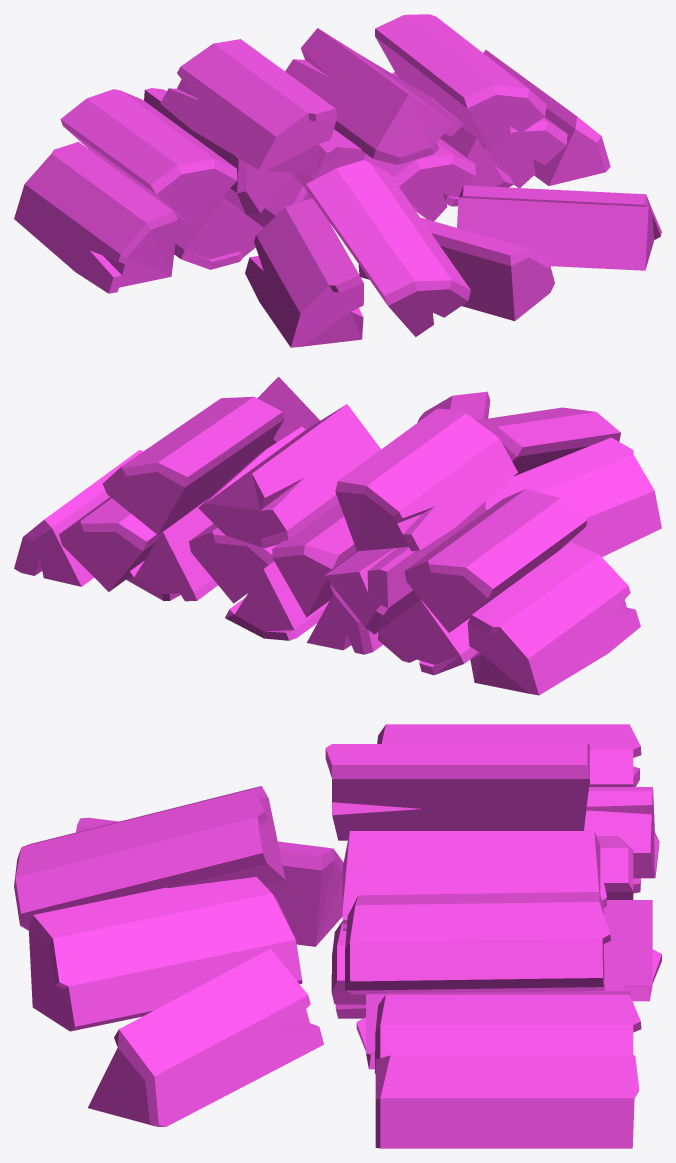
Rendered from SM_Wood_Pile_A_Fantasy.fbx.
The picture shows the model from 3 angles, top to bottom: view 1: azimuth 30°, elevation 25°; view 2: azimuth 150°, elevation 25°; view 3: azimuth 270°, elevation 25°; orthographic projection. The views are drawn at different scales.
Parts seen in each view (by area): view 1: SM_Wood_Pile_A_Fantasy; view 2: SM_Wood_Pile_A_Fantasy; view 3: SM_Wood_Pile_A_Fantasy.
Part boxes in pixels (x1,y1,x2,y2): SM_Wood_Pile_A_Fantasy: (14,14,661,347); SM_Wood_Pile_A_Fantasy: (14,376,661,695); SM_Wood_Pile_A_Fantasy: (14,724,661,1148).
Bounding box in the file's own units: 0.8277 × 0.2416 × 0.6856.
